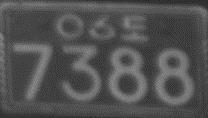0: (55, 11, 84, 38)
3: (60, 44, 102, 102)
6: (88, 13, 116, 42)
7: (11, 42, 53, 101)
8: (153, 46, 195, 106), (107, 47, 147, 103)
도: (121, 14, 149, 41)
